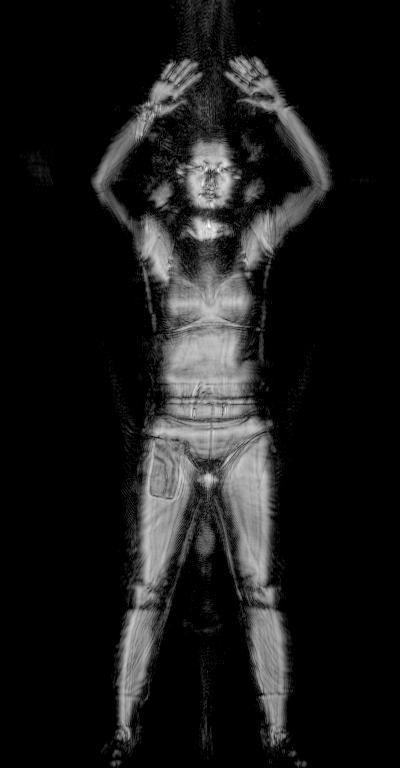head: (172, 129, 244, 221)
others: (146, 434, 186, 503), (130, 97, 161, 142)
person: (91, 53, 331, 768)
